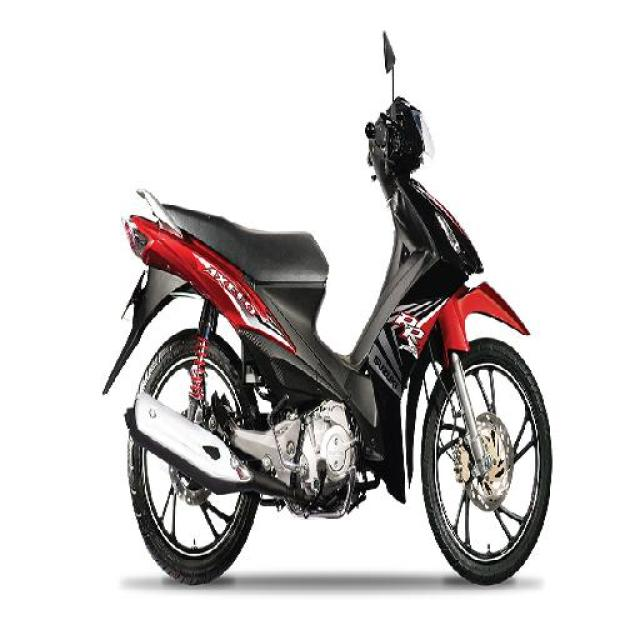All: (96, 85, 555, 586)
Head: (356, 93, 434, 164)
Tail: (122, 186, 184, 269)
